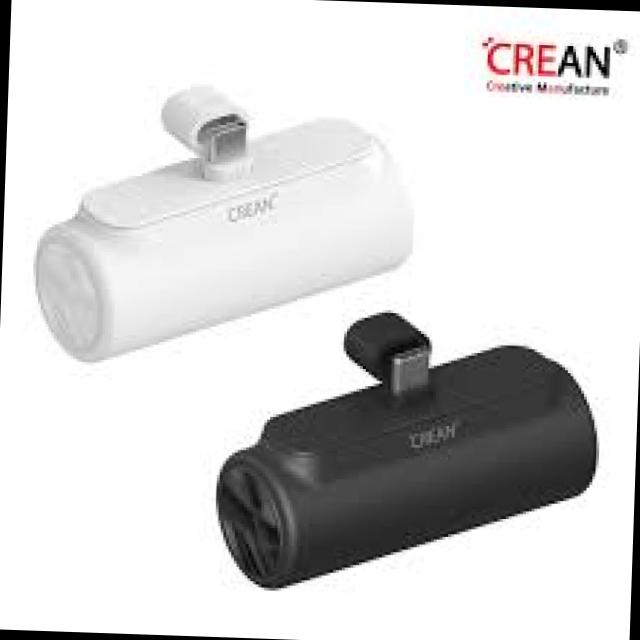power_bank: (208, 300, 606, 610), (26, 75, 422, 378)
